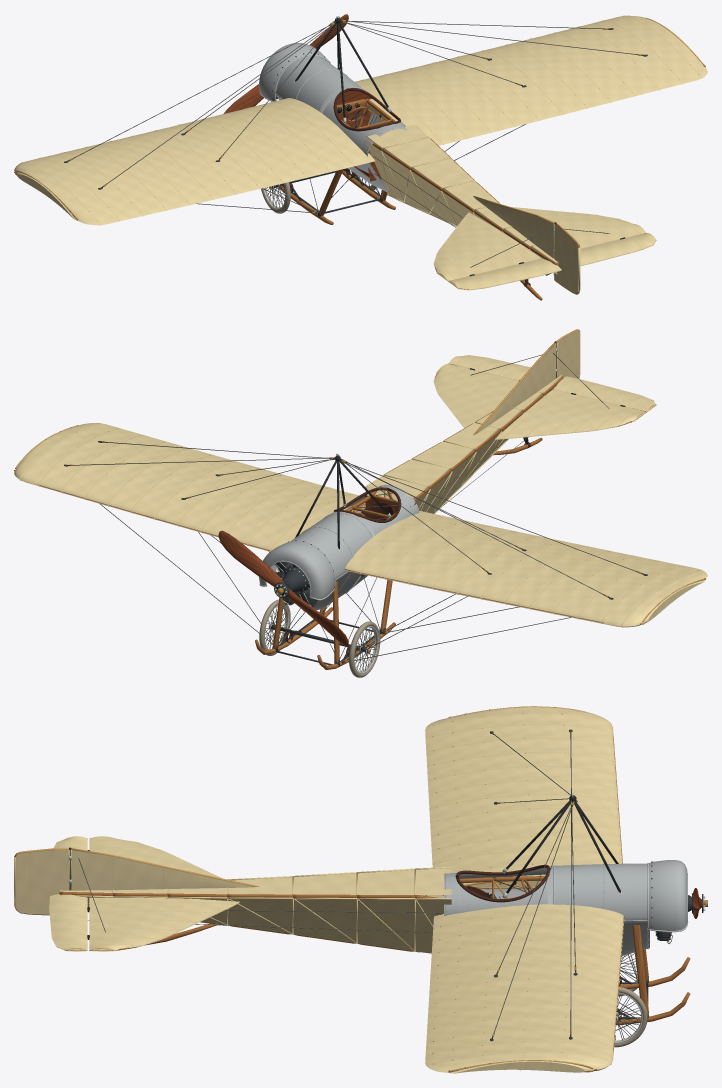
File: aircraft.glb
3 views of the same model, one above another, from view 1: azimuth 30°, elevation 25°; view 2: azimuth 150°, elevation 25°; view 3: azimuth 270°, elevation 25° (orthographic). The views are drawn at different scales.
Parts seen in each view (by area): view 1: Fabric_Wings, Fabric_Fuselage, Fabric_Tailplane, Alloy_Fuselage, Fabric_WingTapes, Fabric_Elevator, Rigging_Wires, Fabric_Fin, Alloy_Cowling, Fabric_Rudder, Structure_Fuselage, Fabric_FuselageTapes (+9 smaller); view 2: Fabric_Wings, Fabric_Tailplane, Fabric_Fuselage, Alloy_Fuselage, Fabric_WingTapes, Rigging_Wires, Propeller, Fabric_Elevator, Alloy_Cowling, Chassis_Frame, Fabric_Fin, Chassis_Wheels (+8 smaller); view 3: Fabric_Wings, Fabric_Fuselage, Alloy_Fuselage, Fabric_Tailplane, Fabric_WingTapes, Fabric_Fin, Fabric_Rudder, Alloy_Cowling, Fabric_Elevator, Structure_Fuselage, Fabric_FuselageTapes, Rigging_Wires (+6 smaller).
Boxes of the visible parts, x1,y1,x2,y2 form: Fabric_Wings: (14, 15, 707, 225); Fabric_Fuselage: (365, 125, 557, 272); Fabric_Tailplane: (433, 207, 645, 281); Alloy_Fuselage: (276, 55, 406, 192); Fabric_WingTapes: (20, 15, 702, 224); Fabric_Elevator: (448, 233, 656, 290); Rigging_Wires: (67, 20, 644, 212); Fabric_Fin: (475, 198, 554, 258); Alloy_Cowling: (259, 43, 330, 101); Fabric_Rudder: (554, 225, 580, 293); Structure_Fuselage: (340, 99, 558, 273); Fabric_FuselageTapes: (365, 126, 558, 274); Fabric_Wings: (14, 423, 707, 627); Fabric_Tailplane: (433, 364, 646, 439); Fabric_Fuselage: (365, 375, 561, 513); Alloy_Fuselage: (275, 485, 419, 612); Fabric_WingTapes: (20, 423, 701, 627); Rigging_Wires: (74, 442, 636, 660); Propeller: (218, 530, 348, 646); Fabric_Elevator: (448, 355, 656, 412); Alloy_Cowling: (259, 540, 335, 600); Chassis_Frame: (255, 579, 395, 669); Fabric_Fin: (477, 343, 555, 433); Chassis_Wheels: (259, 599, 380, 677); Fabric_Wings: (425, 706, 624, 1073); Fabric_Fuselage: (61, 868, 451, 953); Alloy_Fuselage: (444, 863, 649, 955); Fabric_Tailplane: (89, 836, 239, 951); Fabric_WingTapes: (425, 712, 623, 1065); Fabric_Fin: (70, 849, 254, 890); Fabric_Rudder: (14, 850, 69, 914); Alloy_Cowling: (647, 860, 688, 932); Fabric_Elevator: (49, 836, 87, 951); Structure_Fuselage: (59, 876, 544, 952); Fabric_FuselageTapes: (60, 867, 451, 951); Rigging_Wires: (492, 733, 637, 1038).
Size of the model in its own units: 9.72 by 2.91 by 8.02.
18 materials, 5 textured.
